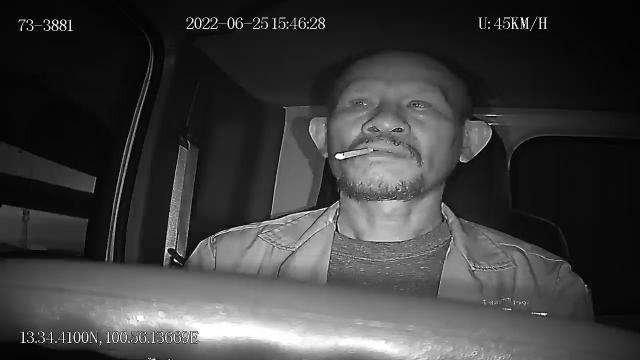SafeDriving: (342, 89, 381, 117), (398, 91, 438, 118)
Smoking: (335, 148, 373, 158)
